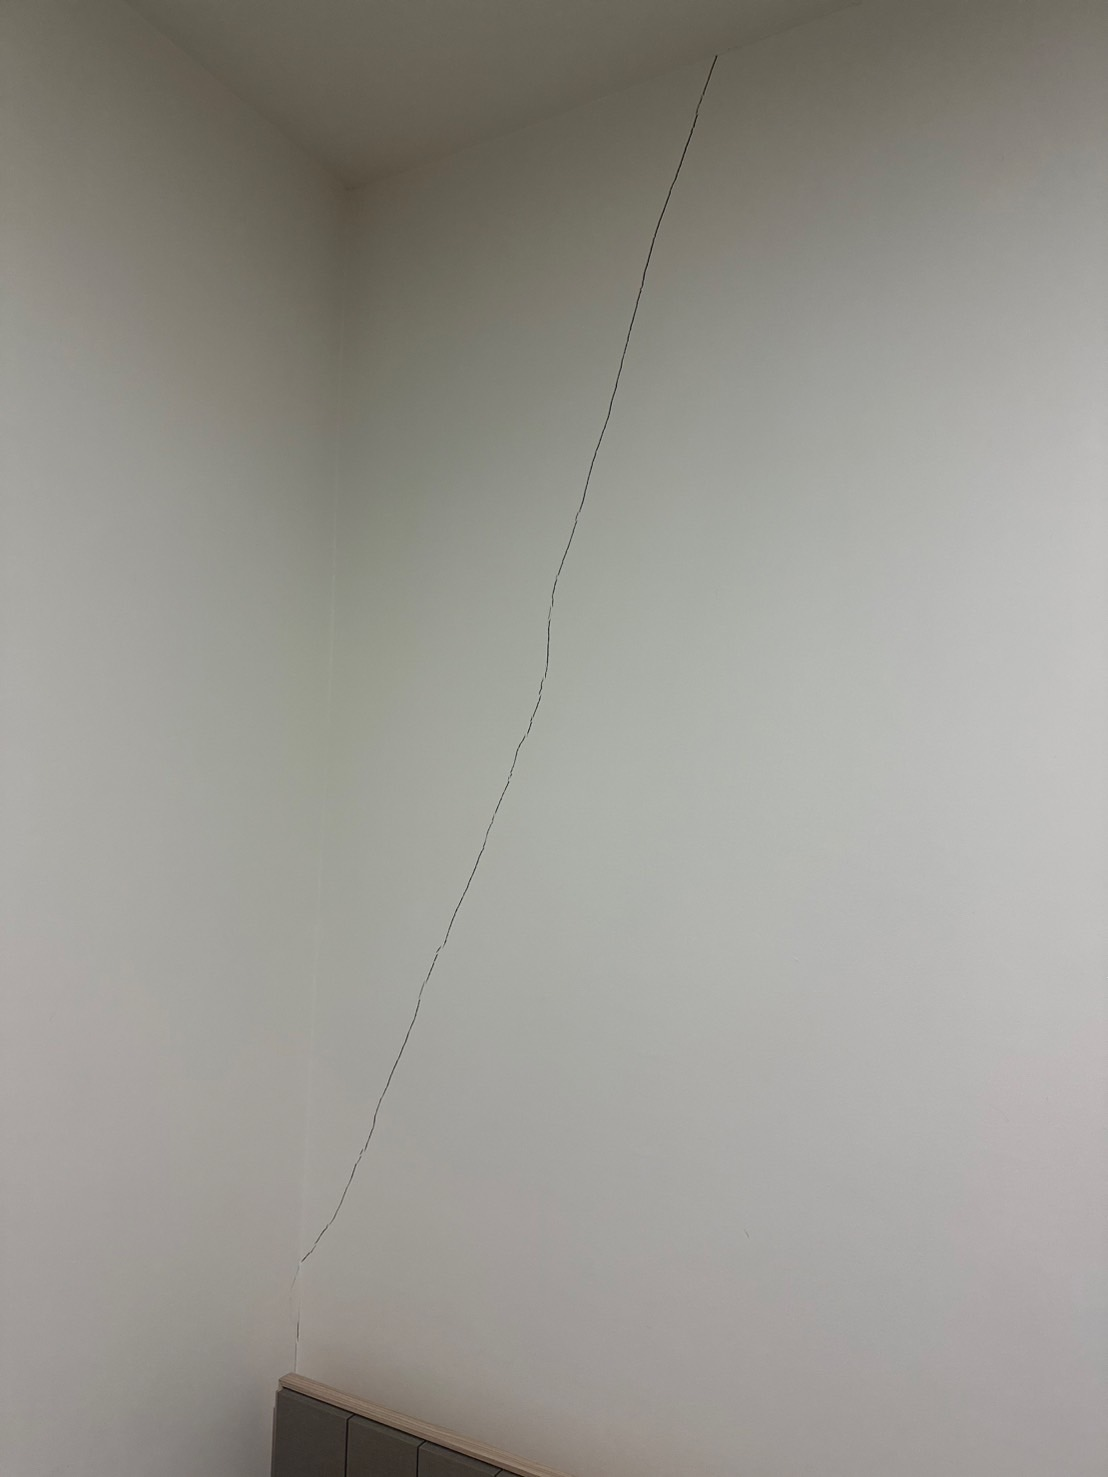Low: (261, 1, 866, 1379)
